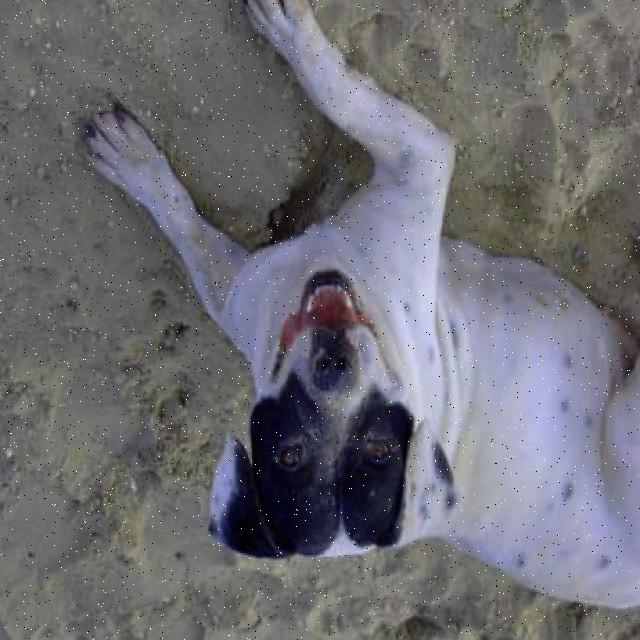Dog: (195, 253, 459, 570)
